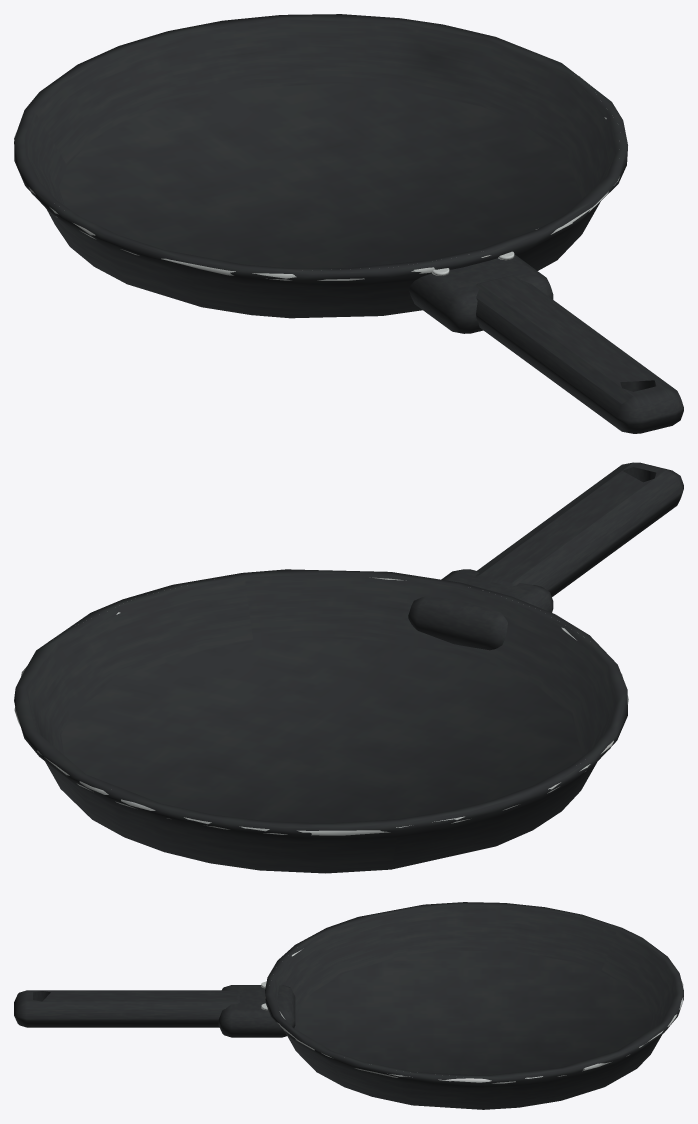
The model's file is pan.glb.
3 renders of one model, top to bottom at view 1: azimuth 30°, elevation 25°; view 2: azimuth 150°, elevation 25°; view 3: azimuth 270°, elevation 25°, orthographic. The views are drawn at different scales.
Parts seen in each view (by area): view 1: Cast iron bowl, Long cast handle, Handle shoulder, Polished rolled rim; view 2: Cast iron bowl, Long cast handle, Handle shoulder, Polished rolled rim; view 3: Cast iron bowl, Long cast handle, Handle shoulder, Polished rolled rim.
Part boxes in pixels (bbox=[...]): Cast iron bowl: bbox=[14, 14, 627, 318]; Long cast handle: bbox=[475, 276, 683, 433]; Handle shoulder: bbox=[409, 254, 553, 333]; Polished rolled rim: bbox=[14, 76, 619, 280]; Cast iron bowl: bbox=[14, 569, 627, 873]; Long cast handle: bbox=[476, 462, 683, 596]; Handle shoulder: bbox=[408, 569, 553, 650]; Polished rolled rim: bbox=[14, 577, 628, 835]; Cast iron bowl: bbox=[265, 902, 683, 1109]; Long cast handle: bbox=[14, 990, 239, 1027]; Handle shoulder: bbox=[218, 985, 295, 1037]; Polished rolled rim: bbox=[265, 950, 683, 1083].
Size of the model in its own units: 0.8195 by 0.1 by 1.31.
1 material, 1 textured.
